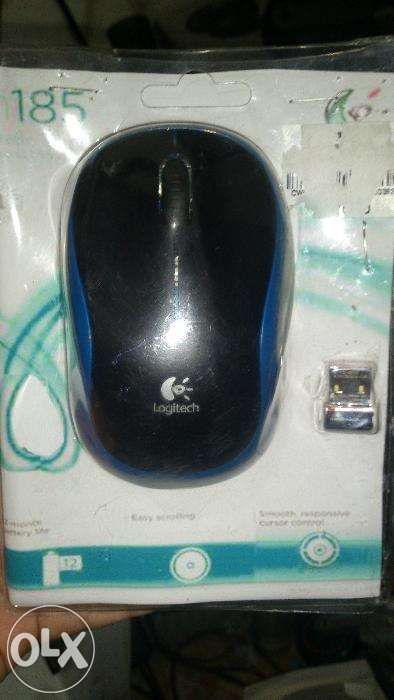logitech-mouse-m185: (38, 119, 334, 497)
